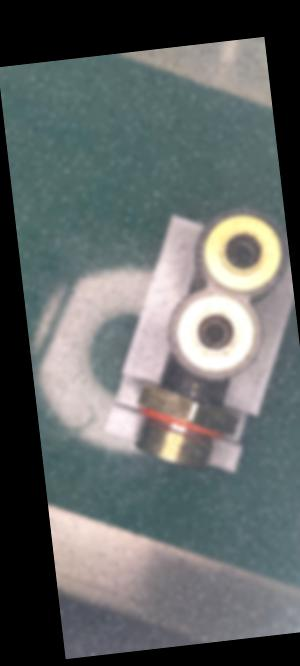craze: (186, 376, 201, 402)
